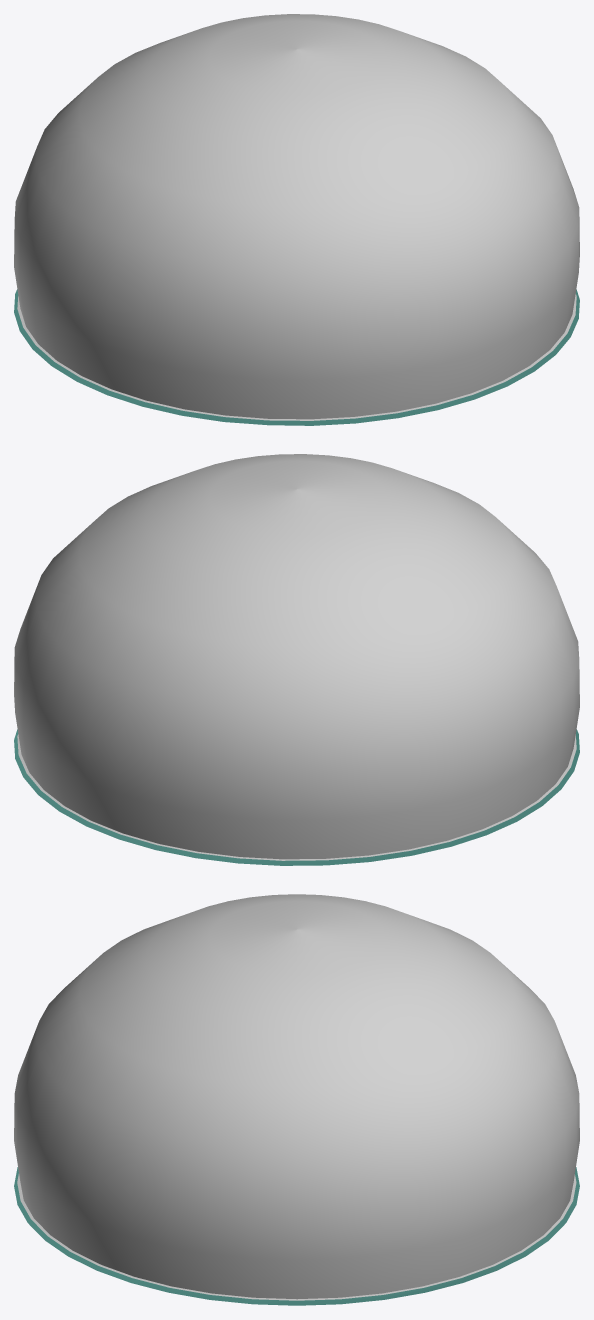
The model's file is carbin.fbx.
3 renders of one model, top to bottom at view 1: azimuth 30°, elevation 25°; view 2: azimuth 150°, elevation 25°; view 3: azimuth 270°, elevation 25°, orthographic.
Parts seen in each view (by area): view 1: Sky, Object, Sea; view 2: Sky, Object, Sea; view 3: Sky, Object, Sea.
Part boxes in pixels (bbox=[...]): Sky: bbox=[14, 14, 579, 419]; Object: bbox=[14, 289, 579, 425]; Sea: bbox=[17, 294, 576, 420]; Sky: bbox=[14, 454, 579, 859]; Object: bbox=[14, 729, 579, 865]; Sea: bbox=[17, 734, 576, 860]; Sky: bbox=[14, 894, 579, 1299]; Object: bbox=[14, 1167, 579, 1305]; Sea: bbox=[17, 1174, 576, 1300].
Bounding box in the file's own units: 882 × 449 × 882.
